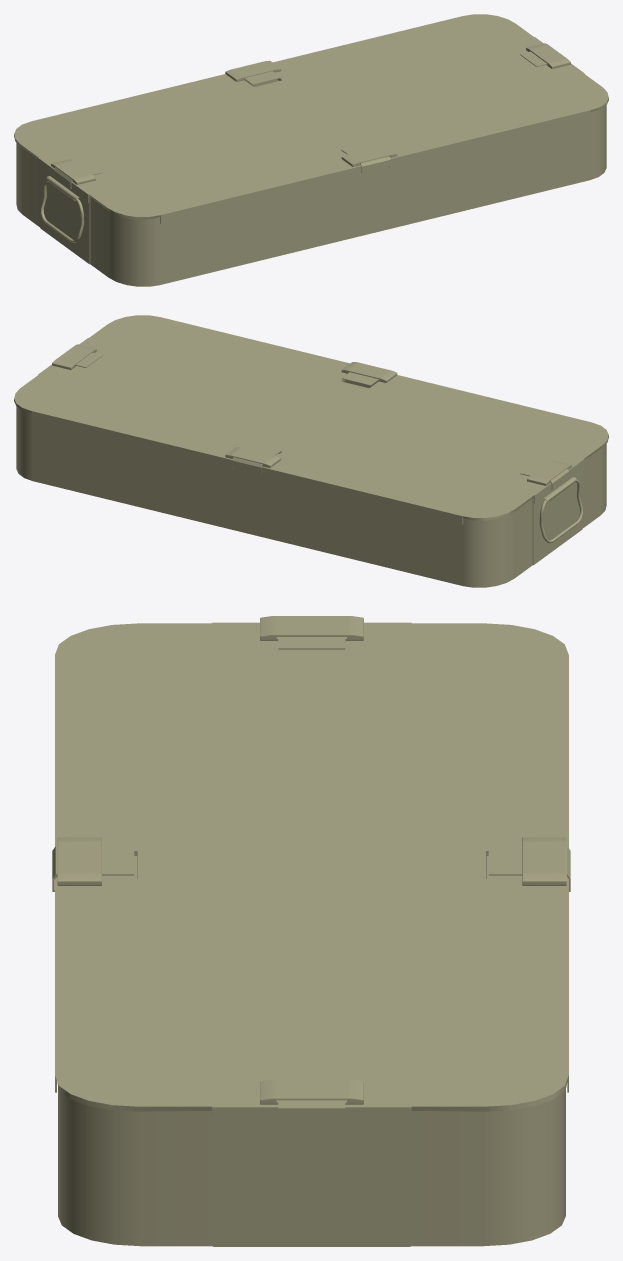
The model's file is Toolbox.fbx.
The picture shows the model from 3 angles, top to bottom: view 1: azimuth 30°, elevation 25°; view 2: azimuth 150°, elevation 25°; view 3: azimuth 270°, elevation 25°; orthographic projection. The views are drawn at different scales.
Visible parts, largest first — view 1: Tools_ToolBox_03:toolbox_top, Tools_ToolBox_03:toolbox_base, Tools_ToolBox_03:slide_holder3, Tools_ToolBox_03:slide_holder4, Tools_ToolBox_03:slide_holder1, Tools_ToolBox_03:slide_holder2, Tools_ToolBox_03:slide3, Tools_ToolBox_03:handle1, Tools_ToolBox_03:slide1; view 2: Tools_ToolBox_03:toolbox_top, Tools_ToolBox_03:toolbox_base, Tools_ToolBox_03:slide_holder3, Tools_ToolBox_03:slide_holder4, Tools_ToolBox_03:slide_holder1, Tools_ToolBox_03:slide_holder2, Tools_ToolBox_03:slide4, Tools_ToolBox_03:handle1, Tools_ToolBox_03:slide1; view 3: Tools_ToolBox_03:toolbox_top, Tools_ToolBox_03:toolbox_base, Tools_ToolBox_03:slide_holder2, Tools_ToolBox_03:slide_holder1, Tools_ToolBox_03:slide_holder4, Tools_ToolBox_03:slide_holder3, Tools_ToolBox_03:slide2, Tools_ToolBox_03:slide4, Tools_ToolBox_03:slide3, Tools_ToolBox_03:slide1.
Boxes of the visible parts, x1,y1,x2,y2 form: Tools_ToolBox_03:toolbox_top: (14, 14, 608, 223); Tools_ToolBox_03:toolbox_base: (16, 79, 606, 286); Tools_ToolBox_03:slide_holder3: (341, 146, 397, 166); Tools_ToolBox_03:slide_holder4: (225, 60, 281, 81); Tools_ToolBox_03:slide_holder1: (51, 159, 95, 184); Tools_ToolBox_03:slide_holder2: (526, 43, 570, 68); Tools_ToolBox_03:slide3: (341, 142, 390, 172); Tools_ToolBox_03:handle1: (40, 179, 84, 242); Tools_ToolBox_03:slide1: (54, 160, 102, 188); Tools_ToolBox_03:toolbox_top: (14, 315, 608, 524); Tools_ToolBox_03:toolbox_base: (16, 380, 606, 587); Tools_ToolBox_03:slide_holder3: (341, 362, 397, 382); Tools_ToolBox_03:slide_holder4: (225, 447, 281, 467); Tools_ToolBox_03:slide_holder1: (527, 460, 571, 485); Tools_ToolBox_03:slide_holder2: (52, 344, 96, 369); Tools_ToolBox_03:slide4: (232, 443, 281, 473); Tools_ToolBox_03:handle1: (539, 480, 583, 543); Tools_ToolBox_03:slide1: (520, 461, 568, 489); Tools_ToolBox_03:toolbox_top: (55, 622, 568, 1124); Tools_ToolBox_03:toolbox_base: (58, 856, 565, 1246); Tools_ToolBox_03:slide_holder2: (260, 1079, 363, 1104); Tools_ToolBox_03:slide_holder1: (260, 616, 363, 640); Tools_ToolBox_03:slide_holder4: (522, 837, 566, 885); Tools_ToolBox_03:slide_holder3: (57, 837, 101, 885); Tools_ToolBox_03:slide2: (278, 1072, 345, 1120); Tools_ToolBox_03:slide4: (488, 846, 570, 891); Tools_ToolBox_03:slide3: (52, 846, 134, 891); Tools_ToolBox_03:slide1: (278, 637, 345, 649).
Size of the model in its own units: 14.18 by 2 by 6.33.
